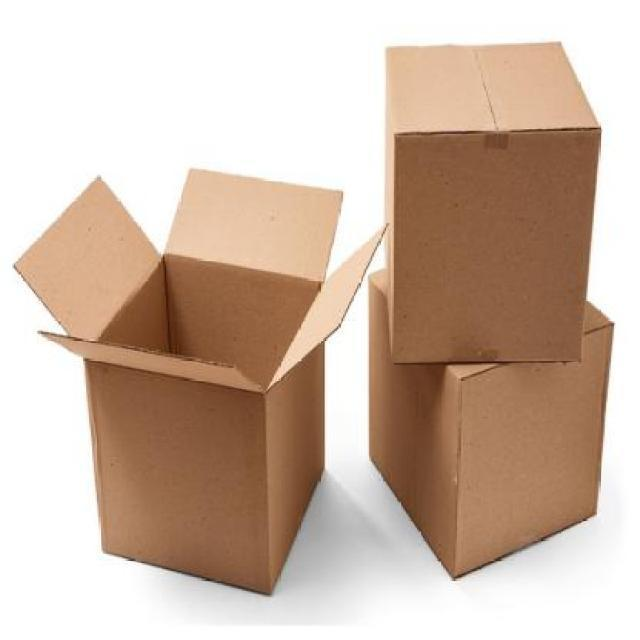box: (23, 172, 374, 591), (368, 266, 616, 582), (380, 41, 600, 364)
